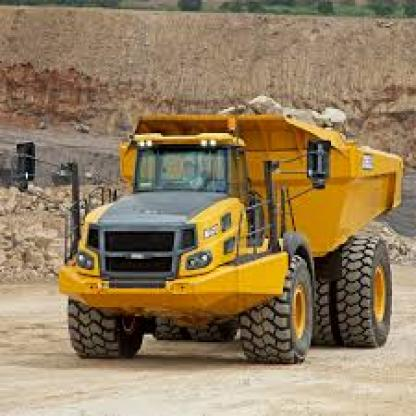bull_dozer/loader/grader: (41, 83, 412, 374)
